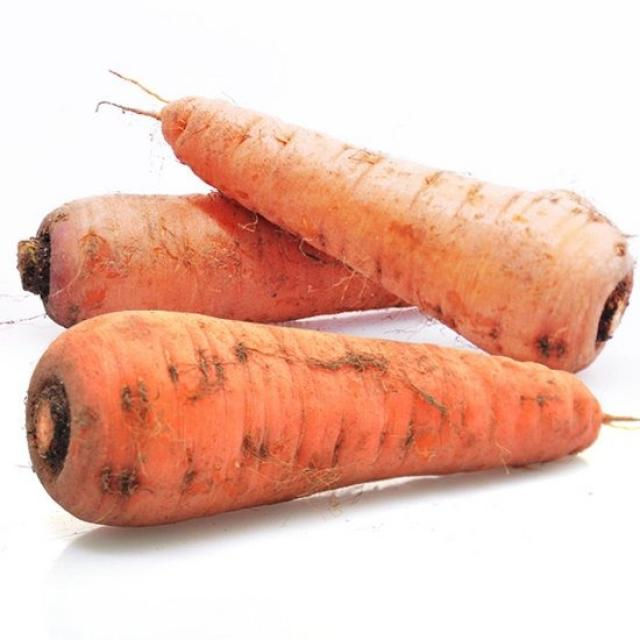carrot: (128, 79, 637, 383), (20, 310, 619, 528), (17, 193, 430, 324)
